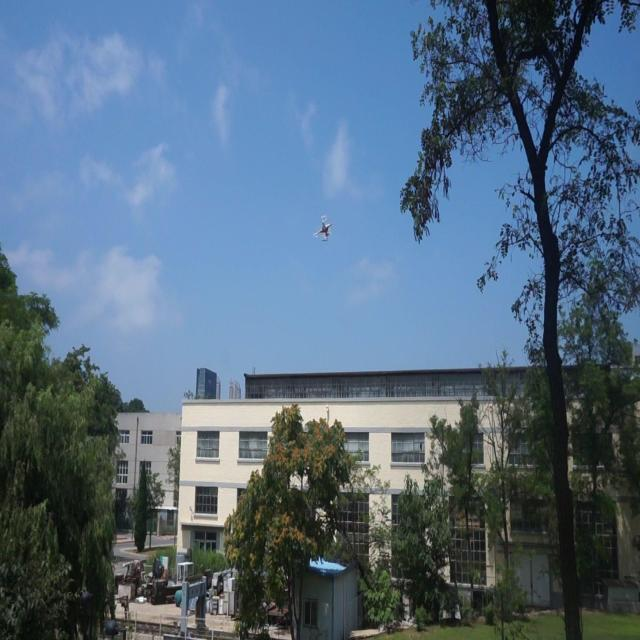drone: (310, 216, 335, 241)
